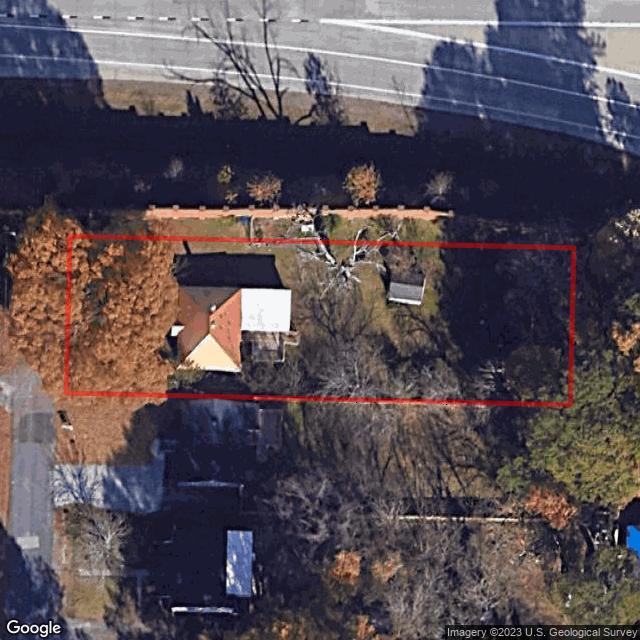House: (170, 284, 293, 373)
Other: (245, 331, 301, 363), (388, 267, 426, 304)
